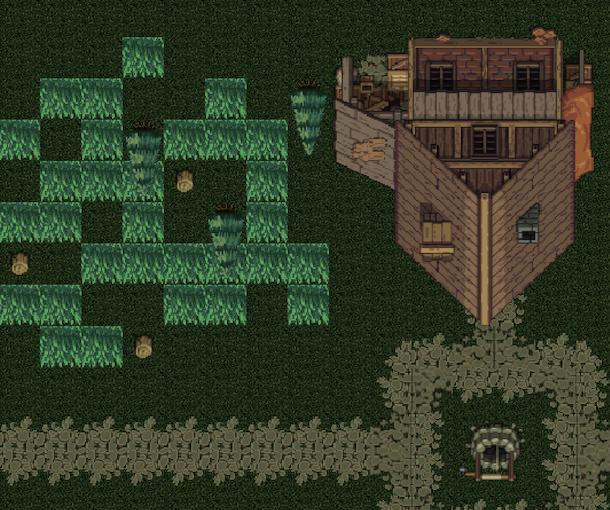Hide: (458, 420, 527, 486)
Obstacle: (329, 1, 610, 243), (286, 82, 328, 122), (124, 326, 165, 366), (0, 244, 41, 284), (162, 163, 203, 203), (206, 205, 247, 245), (123, 122, 164, 162)
Slow: (246, 202, 288, 244), (246, 160, 288, 202), (40, 78, 82, 120), (81, 160, 123, 202), (205, 120, 248, 161), (123, 38, 166, 79), (287, 284, 329, 325), (287, 243, 329, 284), (246, 243, 288, 284), (162, 284, 204, 325), (162, 244, 204, 285), (121, 243, 163, 284), (79, 243, 121, 284), (122, 203, 164, 244), (246, 120, 288, 161), (163, 120, 205, 161), (82, 79, 124, 120), (81, 120, 123, 161), (122, 162, 164, 203), (40, 162, 82, 203), (40, 201, 82, 242), (40, 284, 82, 325), (82, 326, 124, 367), (40, 326, 82, 367), (204, 284, 247, 324), (204, 80, 247, 120), (0, 119, 41, 160), (0, 202, 41, 243), (0, 284, 41, 325), (204, 244, 246, 284)
